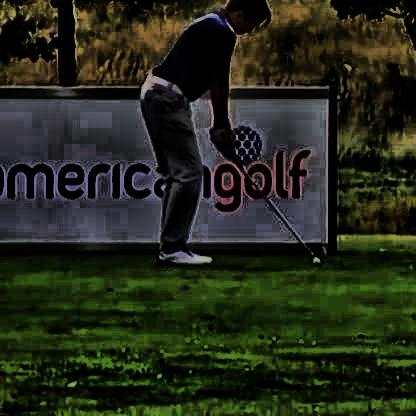golfball: (309, 254, 319, 264)
